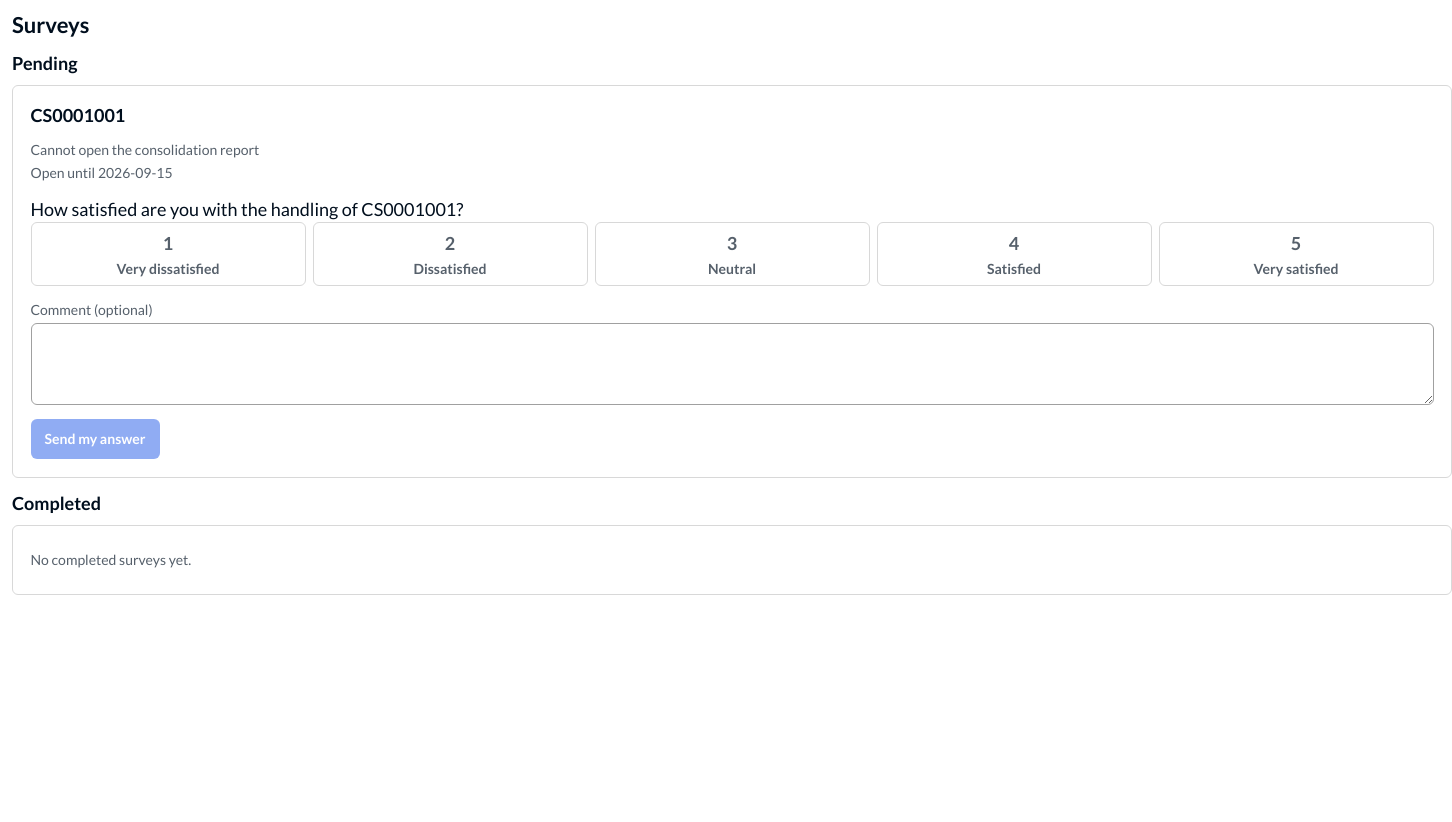
Scenario: portal surveys page › words survey_closed with the expired status
This screenshot has width=1452, height=822.
Click the button with aria-label "5, Very satisfied" at (1296, 254), box [1158,222,1434,286]
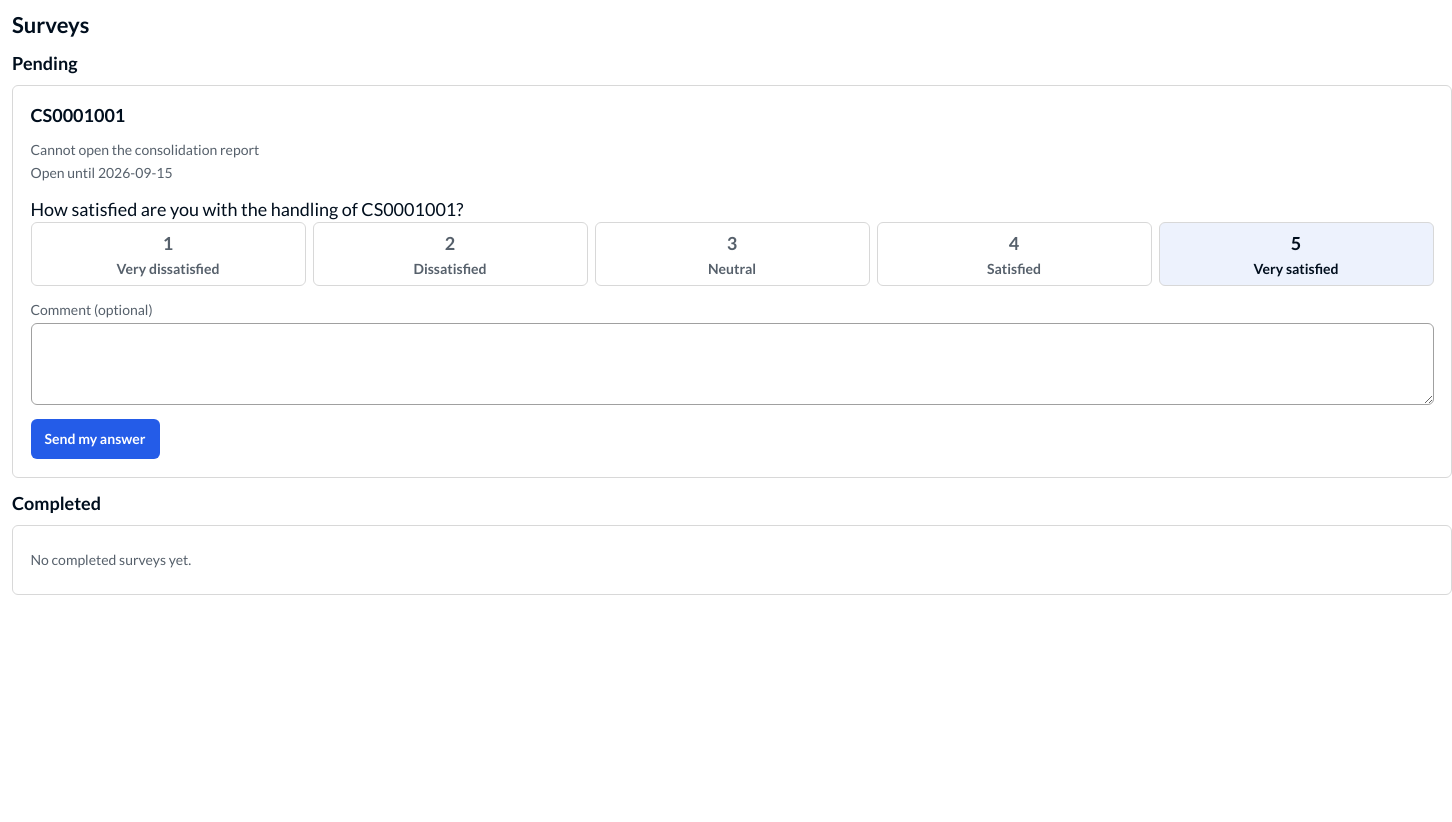
Click the button "Send my answer" at (95, 439), box [30,419,160,459]
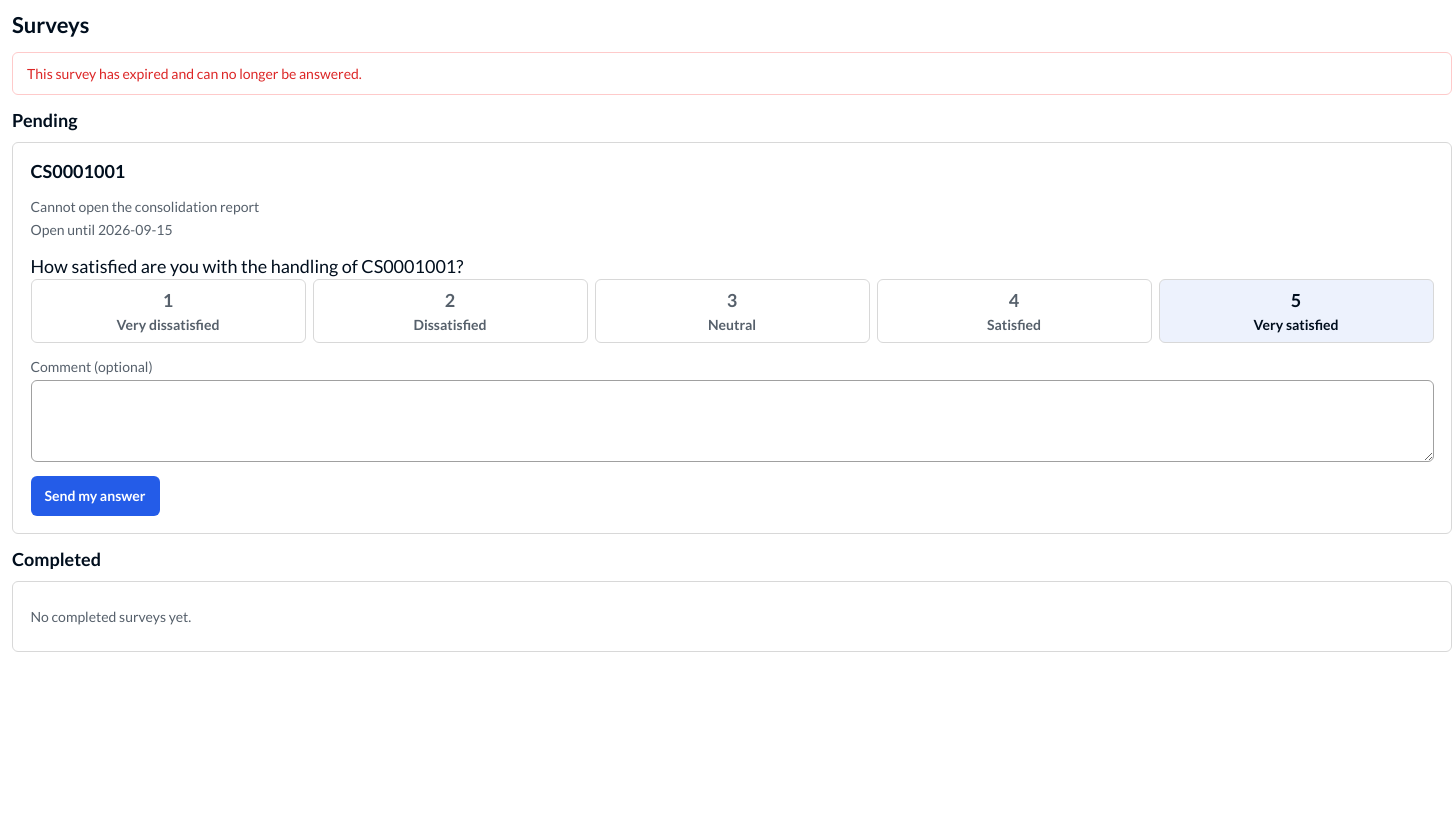
Expected: the message reads "This survey has expired and can no longer be answered.", [27,65,362,82]
